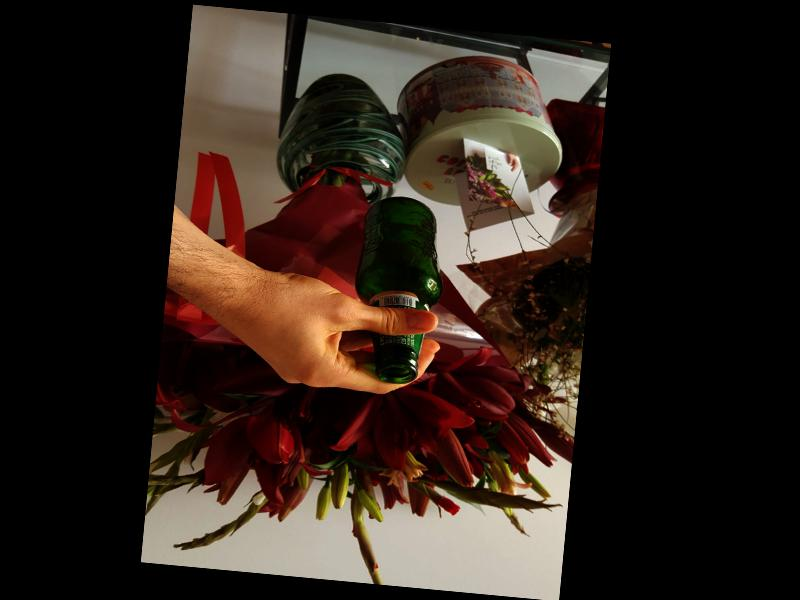Beer: (349, 193, 450, 385)
